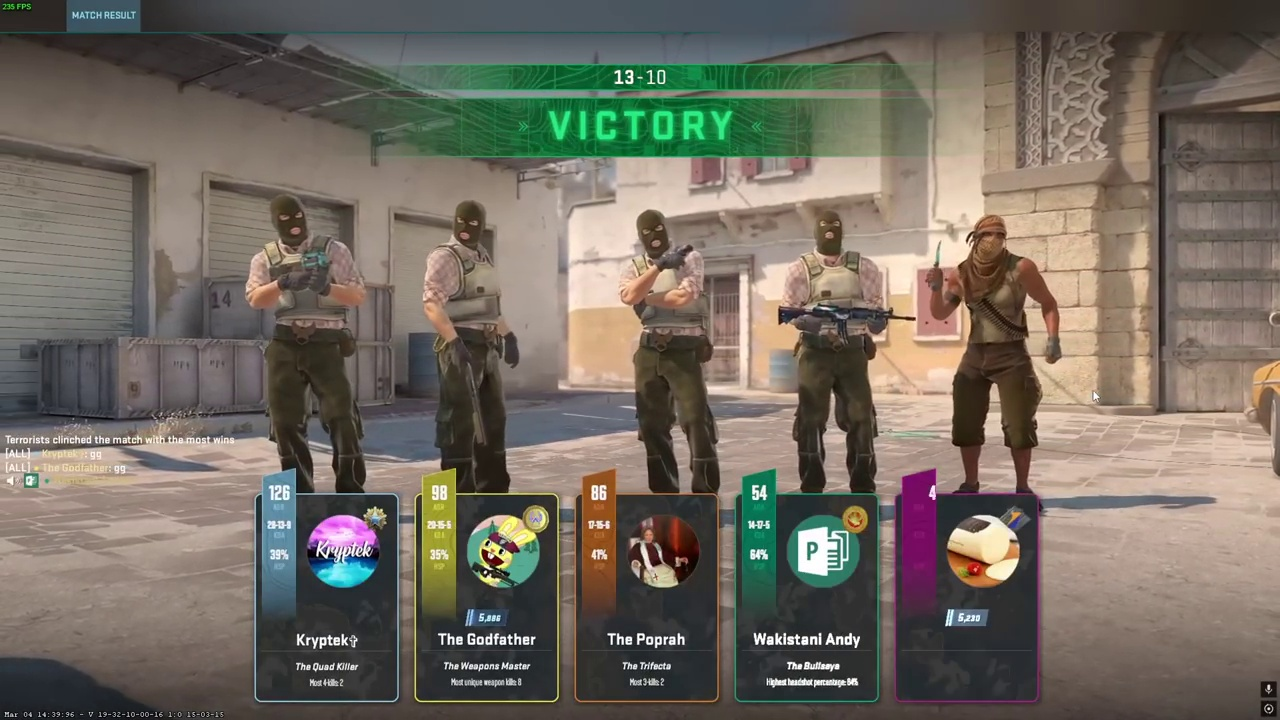Terrorist: (257, 195, 365, 493), (938, 215, 1045, 496), (786, 210, 886, 494), (622, 209, 717, 492), (425, 200, 516, 491)
